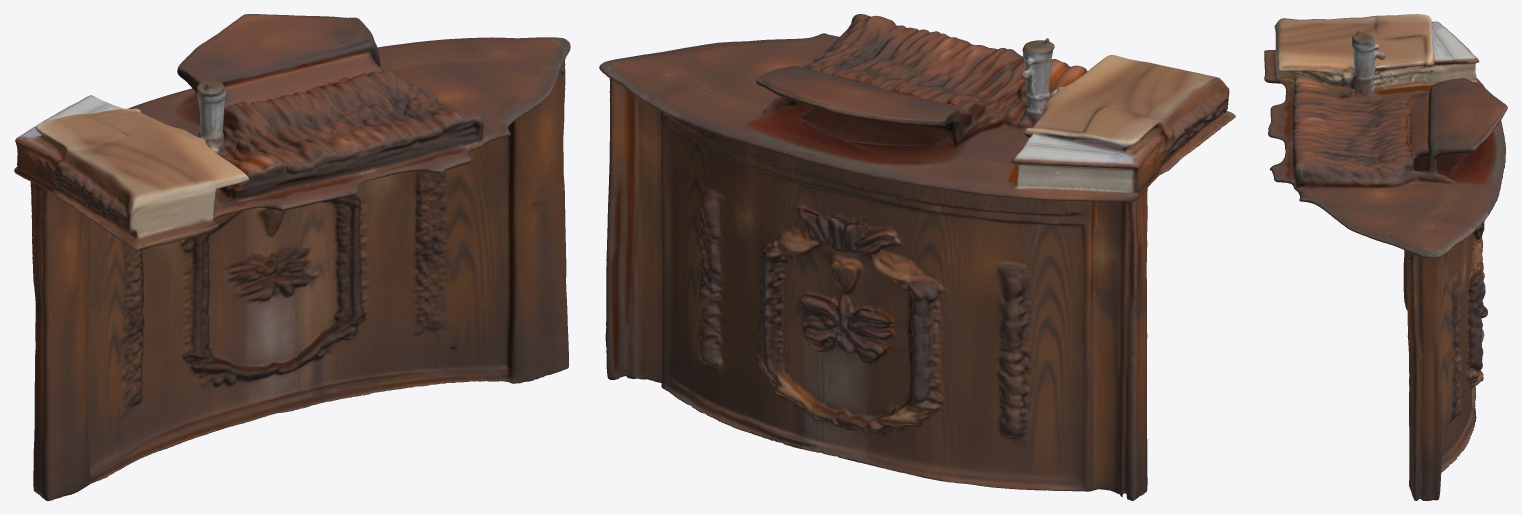
File: pulpito_iumpconcon.glb
3 views of the same model, side by side, from view 1: azimuth 30°, elevation 25°; view 2: azimuth 150°, elevation 25°; view 3: azimuth 270°, elevation 25° (orthographic). The views are drawn at different scales.
Size of the model in its own units: 2 by 1.42 by 0.9811.
Materials: 1 (1 with a texture image).
